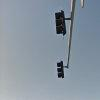Traffic light: (47, 6, 76, 82)
